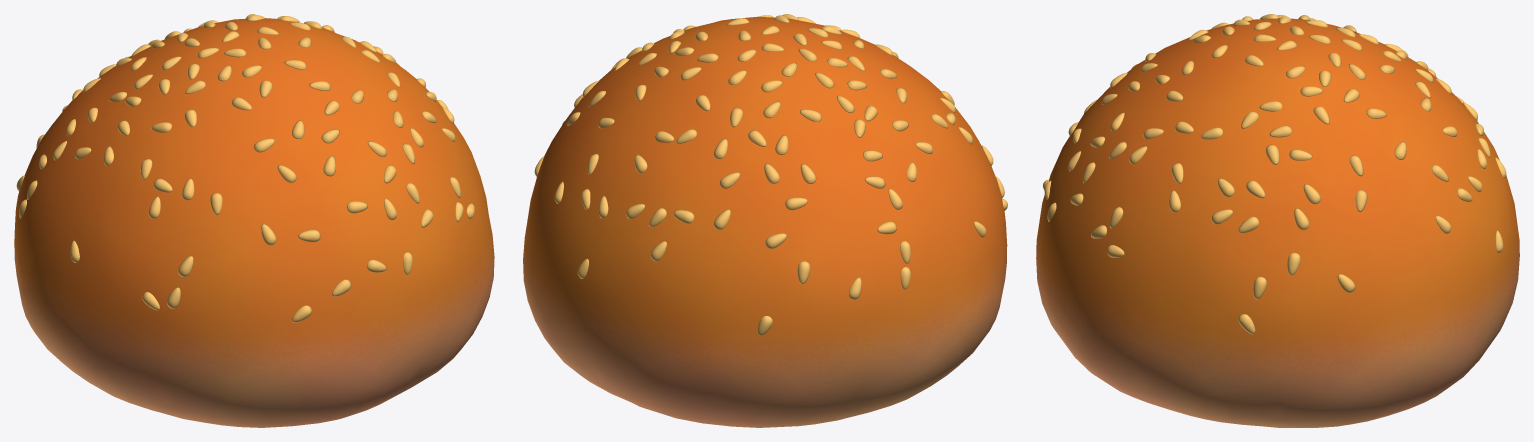
The model's file is bun.glb.
3 views of the same model, side by side, from view 1: azimuth 30°, elevation 25°; view 2: azimuth 150°, elevation 25°; view 3: azimuth 270°, elevation 25° (orthographic).
Visible parts, largest first — view 1: Icosphere; view 2: Icosphere; view 3: Icosphere.
Part boxes in pixels (bbox=[...]): Icosphere: bbox=[14, 18, 494, 427]; Icosphere: bbox=[523, 16, 1007, 427]; Icosphere: bbox=[1036, 18, 1519, 427].
Size of the model in its own units: 1.88 by 1.49 by 1.86.
2 materials, 1 textured.
